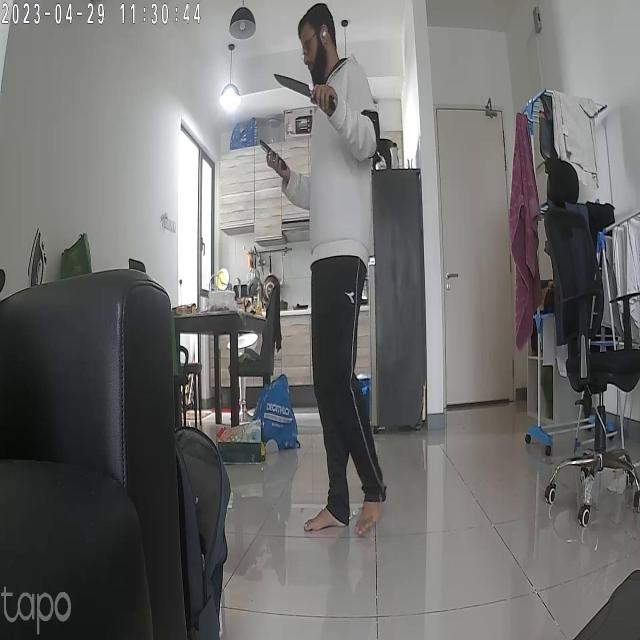Knife: (270, 66, 340, 120)
